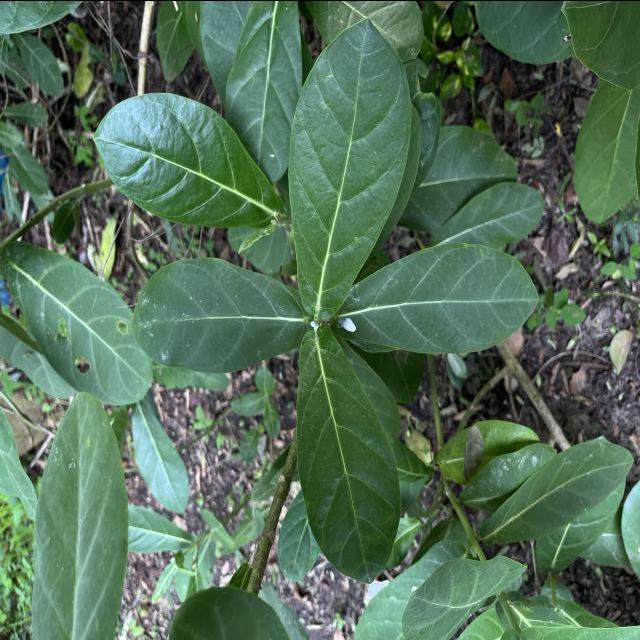Calotropis gigantea: (287, 13, 413, 323), (294, 325, 402, 584), (91, 90, 283, 230), (0, 239, 154, 405), (329, 240, 542, 354), (130, 256, 312, 374), (478, 439, 635, 547), (223, 0, 303, 183), (431, 180, 546, 246)
